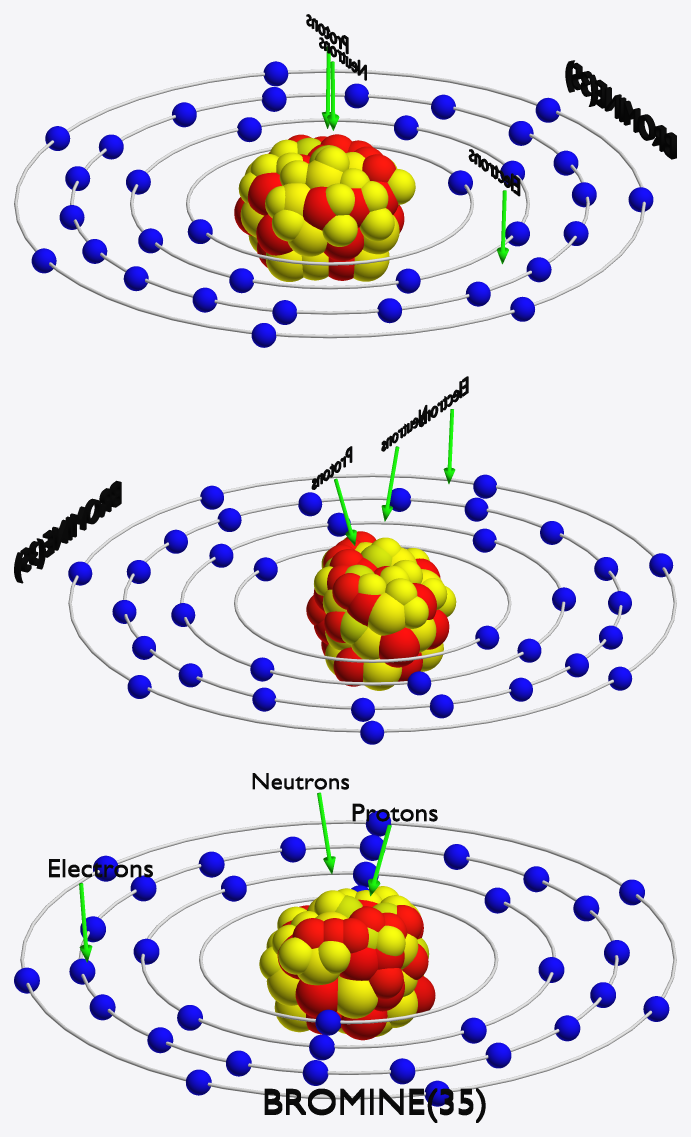
The model's file is Bromine Atomic Model.gltf.
The picture shows the model from 3 angles, top to bottom: view 1: azimuth 30°, elevation 25°; view 2: azimuth 150°, elevation 25°; view 3: azimuth 270°, elevation 25°; orthographic projection. The views are drawn at different scales.
Parts seen in each view (by area): view 1: Sphere.038, Torus.003, Torus.002, Torus.001, Text.003, Torus, Sphere.014, Sphere.008, Sphere.016, Sphere.015, Sphere.006, Sphere.002 (+24 smaller); view 2: Sphere.038, Torus.003, Torus.002, Torus.001, Text.003, Torus, Sphere.018, Sphere.019, Sphere.020, Text; view 3: Sphere.038, Torus.003, Torus.002, Torus.001, Text.003, Torus, Sphere.002, Text, Sphere.009, Sphere.000, Sphere.007, Sphere.021 (+30 smaller).
Boxes of the visible parts, x1=… form: Sphere.038: x1=234, y1=137, x2=404, y2=281; Torus.003: x1=14, y1=69, x2=645, y2=338; Torus.002: x1=70, y1=93, x2=589, y2=314; Torus.001: x1=130, y1=118, x2=529, y2=289; Text.003: x1=565, y1=60, x2=676, y2=159; Torus: x1=186, y1=144, x2=473, y2=265; Sphere.014: x1=322, y1=215, x2=357, y2=246; Sphere.008: x1=359, y1=208, x2=394, y2=241; Sphere.016: x1=272, y1=209, x2=304, y2=241; Sphere.015: x1=325, y1=183, x2=354, y2=215; Sphere.006: x1=362, y1=154, x2=395, y2=182; Sphere.002: x1=387, y1=169, x2=415, y2=204; Sphere.038: x1=313, y1=542, x2=449, y2=690; Torus.003: x1=68, y1=473, x2=676, y2=732; Torus.002: x1=123, y1=496, x2=622, y2=709; Torus.001: x1=180, y1=521, x2=565, y2=685; Text.003: x1=14, y1=480, x2=121, y2=583; Torus: x1=234, y1=545, x2=511, y2=662; Sphere.018: x1=332, y1=573, x2=360, y2=609; Sphere.019: x1=404, y1=596, x2=428, y2=628; Sphere.020: x1=385, y1=578, x2=417, y2=605; Text: x1=419, y1=376, x2=468, y2=427; Sphere.038: x1=266, y1=895, x2=435, y2=1040; Torus.003: x1=20, y1=820, x2=676, y2=1099; Torus.002: x1=78, y1=844, x2=618, y2=1074; Torus.001: x1=140, y1=871, x2=556, y2=1048; Text.003: x1=264, y1=1088, x2=485, y2=1122; Torus: x1=199, y1=897, x2=498, y2=1024; Sphere.002: x1=278, y1=937, x2=311, y2=974; Text: x1=49, y1=859, x2=152, y2=877; Sphere.009: x1=368, y1=968, x2=403, y2=999; Sphere.000: x1=318, y1=941, x2=350, y2=974; Sphere.007: x1=343, y1=918, x2=368, y2=953; Sphere.021: x1=376, y1=925, x2=405, y2=956.
Bounding box in the file's own units: 8.47 × 3.34 × 7.94.
